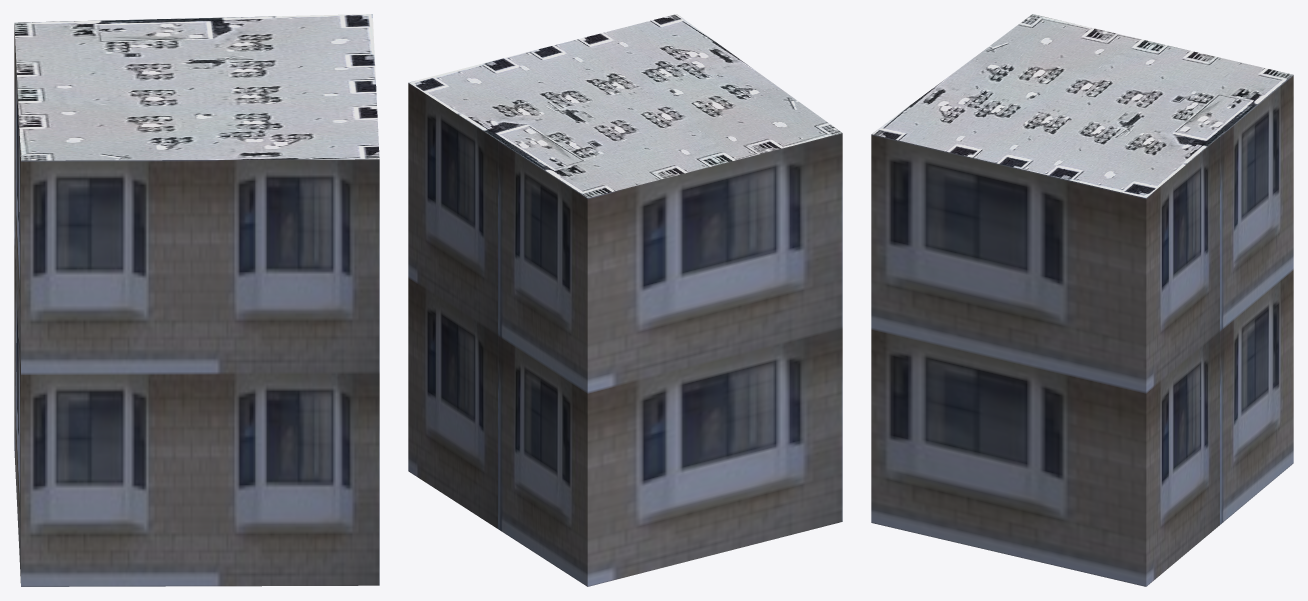
Rendered from ResTex__769.fbx.
3 renders of one model, left to right at view 1: azimuth 30°, elevation 25°; view 2: azimuth 150°, elevation 25°; view 3: azimuth 270°, elevation 25°, orthographic. The views are drawn at different scales.
Visible parts, largest first — view 1: CityEngineMaterial_3_m, CityEngineMaterial_4_m; view 2: CityEngineMaterial_3_m, CityEngineMaterial_4_m; view 3: CityEngineMaterial_3_m, CityEngineMaterial_4_m.
Boxes of the visible parts, <box> form: CityEngineMaterial_3_m: <box>14,25,379,586</box>; CityEngineMaterial_4_m: <box>14,14,379,160</box>; CityEngineMaterial_3_m: <box>408,83,842,586</box>; CityEngineMaterial_4_m: <box>408,14,841,197</box>; CityEngineMaterial_3_m: <box>871,75,1293,586</box>; CityEngineMaterial_4_m: <box>872,14,1292,197</box>.
Bounding box in the file's own units: 6.1 × 6 × 5.91.
Materials: 2 (2 with a texture image).
